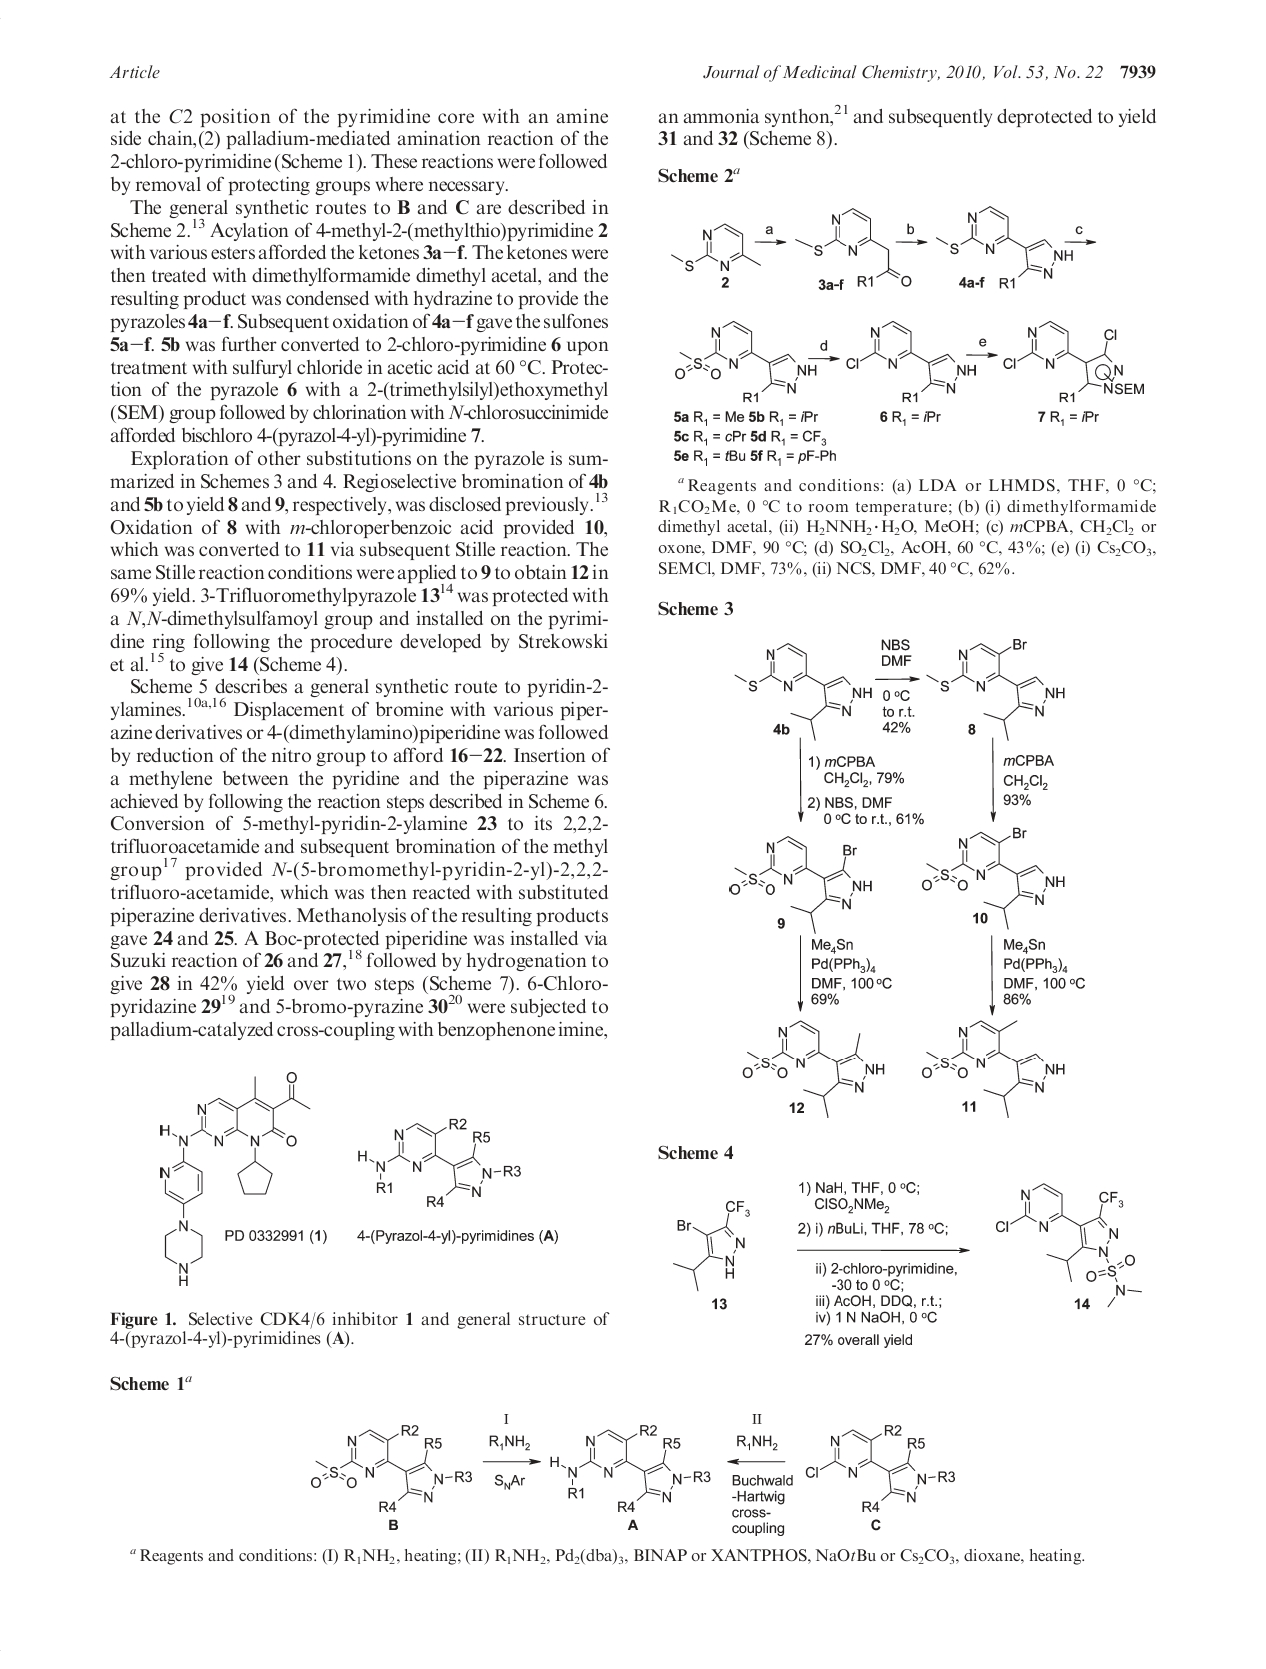exist_molecular: (156, 1067, 311, 1289), (992, 1181, 1145, 1311), (727, 830, 876, 936), (926, 634, 1067, 745), (918, 1017, 1067, 1121), (309, 1422, 473, 1515), (355, 1117, 523, 1208), (920, 830, 1068, 930), (549, 1423, 714, 1512), (742, 1017, 887, 1118), (731, 640, 872, 743), (802, 1423, 957, 1513), (672, 317, 821, 406), (1003, 317, 1149, 406), (844, 318, 977, 406), (934, 203, 1077, 281), (795, 206, 915, 290), (673, 1196, 751, 1293), (672, 221, 762, 287)
